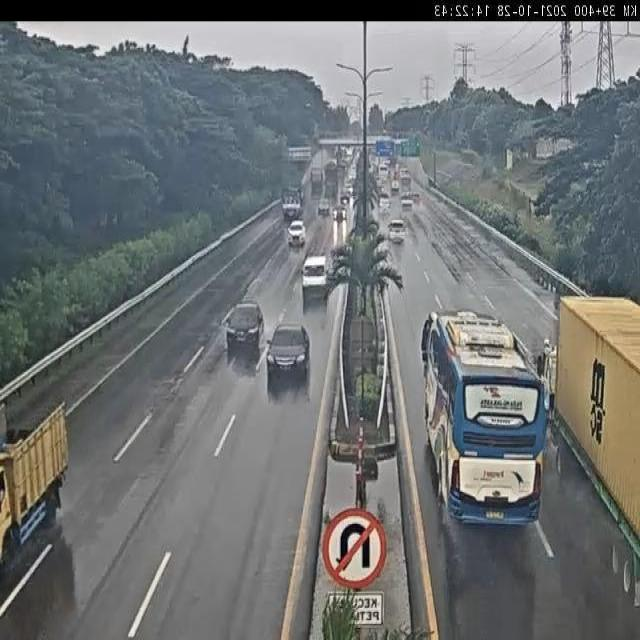Bus: (429, 309, 543, 536)
Car: (262, 320, 312, 391), (224, 299, 264, 360), (301, 256, 328, 306), (288, 221, 306, 246), (388, 219, 406, 244), (318, 198, 330, 216), (401, 197, 413, 210)
Truck: (555, 275, 640, 572), (0, 379, 88, 547)
